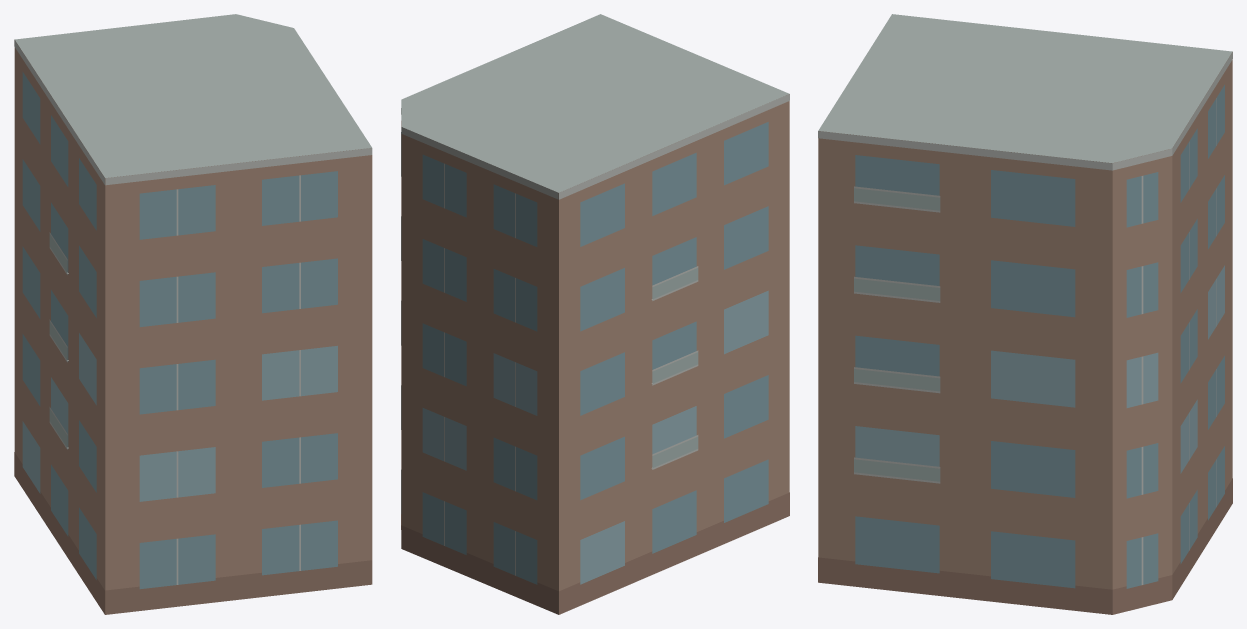
The model's file is survey-upis-32710373.glb.
The picture shows the model from 3 angles, left to right: view 1: azimuth 30°, elevation 25°; view 2: azimuth 150°, elevation 25°; view 3: azimuth 270°, elevation 25°; orthographic projection. The views are drawn at different scales.
Visible parts, largest first — view 1: survey-upis-32710373.tmp; view 2: survey-upis-32710373.tmp; view 3: survey-upis-32710373.tmp.
Part boxes in pixels (x1,y1,x2,y2): survey-upis-32710373.tmp: (14,14,372,614); survey-upis-32710373.tmp: (401,14,789,614); survey-upis-32710373.tmp: (818,14,1232,614).
Size of the model in its own units: 10.53 by 14.85 by 12.36.
